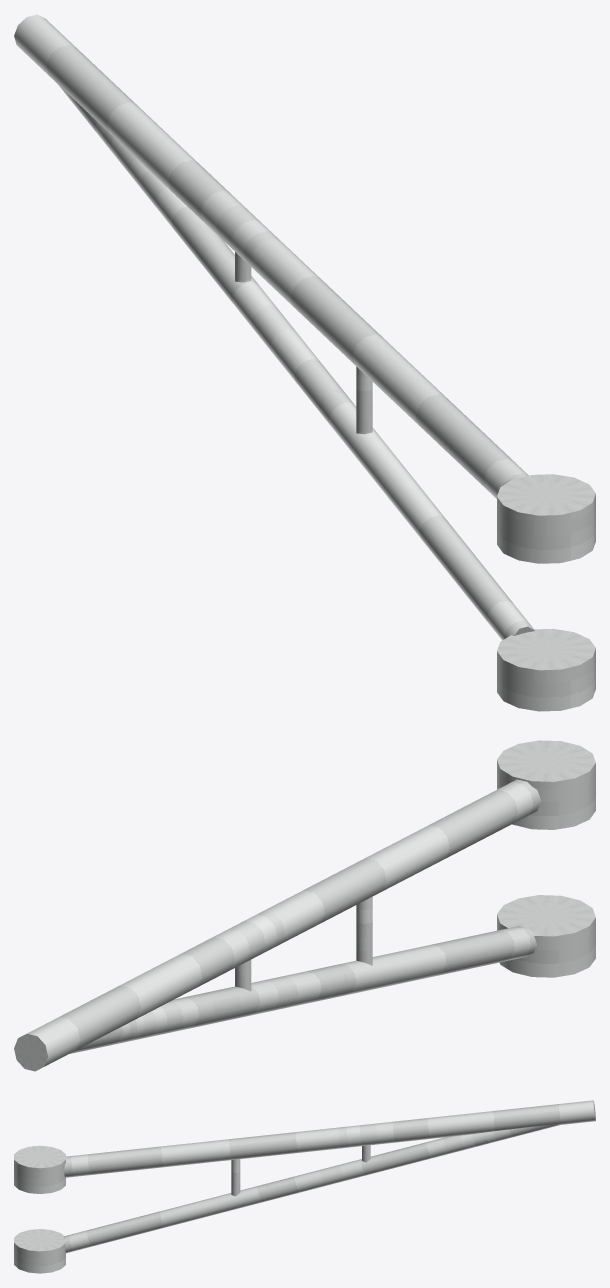
The model's file is trusssignalarm_sloped8_inv.obj.
3 views of the same model, one above another, from view 1: azimuth 30°, elevation 25°; view 2: azimuth 150°, elevation 25°; view 3: azimuth 270°, elevation 25° (orthographic). The views are drawn at different scales.
Visible parts, largest first — view 1: trusssignalarm_sloped8_inv; view 2: trusssignalarm_sloped8_inv; view 3: trusssignalarm_sloped8_inv.
Boxes of the visible parts, x1,y1,x2,y2 form: trusssignalarm_sloped8_inv: (14, 14, 595, 711); trusssignalarm_sloped8_inv: (14, 740, 595, 1071); trusssignalarm_sloped8_inv: (14, 1100, 595, 1273).
Bounding box in the file's own units: 0.0918 × 0.3046 × 1.
